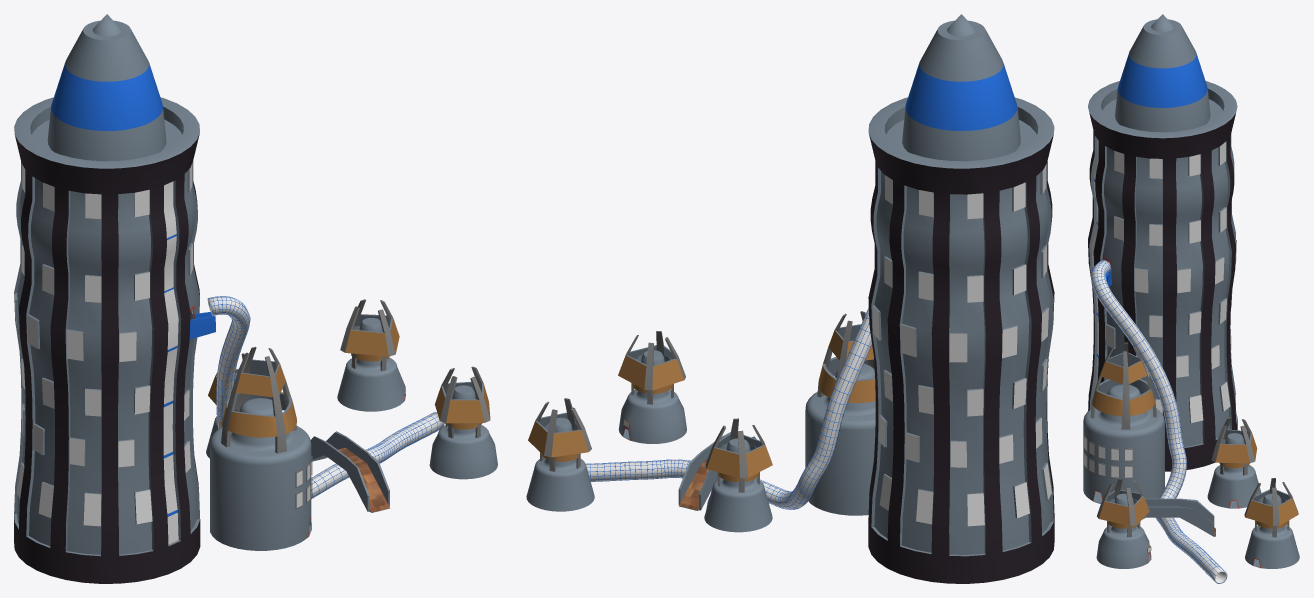
Rendered from Market.fbx.
3 views of the same model, side by side, from view 1: azimuth 30°, elevation 25°; view 2: azimuth 150°, elevation 25°; view 3: azimuth 270°, elevation 25° (orthographic). The views are drawn at different scales.
Parts seen in each view (by area): view 1: Cylinder.016, Cylinder.015, Cylinder.018, Cylinder.017, BezierCurve, Plane, BezierCurve.001; view 2: Cylinder.016, Cylinder.015, BezierCurve, Cylinder.017, Cylinder.019, Cylinder.018, BezierCurve.001, Plane; view 3: Cylinder.016, Cylinder.015, BezierCurve, Cylinder.017, Cylinder.018, Cylinder.019, BezierCurve.001, Plane, Market_Window.004.
Boxes of the visible parts, <box> form: Cylinder.016: <box>14,14,215,583</box>; Cylinder.015: <box>210,346,311,550</box>; Cylinder.018: <box>337,299,405,411</box>; Cylinder.017: <box>429,366,497,479</box>; BezierCurve: <box>207,296,444,498</box>; Plane: <box>310,431,390,512</box>; BezierCurve.001: <box>208,296,444,498</box>; Cylinder.016: <box>868,14,1054,583</box>; Cylinder.015: <box>805,311,875,515</box>; BezierCurve: <box>586,308,871,509</box>; Cylinder.017: <box>618,331,686,443</box>; Cylinder.019: <box>704,418,772,532</box>; Cylinder.018: <box>526,398,594,511</box>; BezierCurve.001: <box>586,308,871,509</box>; Plane: <box>678,432,756,510</box>; Cylinder.016: <box>1088,14,1237,471</box>; Cylinder.015: <box>1083,342,1164,503</box>; BezierCurve: <box>1091,260,1227,583</box>; Cylinder.017: <box>1096,478,1151,568</box>; Cylinder.018: <box>1244,478,1299,568</box>; Cylinder.019: <box>1207,417,1261,508</box>; BezierCurve.001: <box>1091,260,1227,583</box>; Plane: <box>1142,498,1215,536</box>; Market_Window.004: <box>1084,436,1132,478</box>.
Size of the model in its own units: 2129 by 2428 by 1103.
